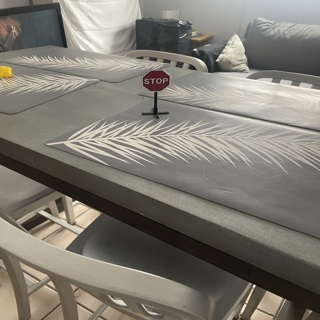sign_stop: (142, 72, 168, 91)
